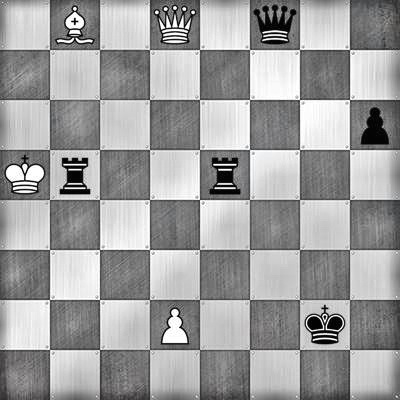black-king: (300, 300, 350, 350)
black-pawn: (350, 100, 400, 150)
black-queen: (250, 0, 300, 50)
black-rook: (50, 150, 100, 200), (200, 150, 250, 200)
white-bishop: (50, 0, 100, 50)
white-king: (0, 150, 50, 200)
white-pawn: (150, 300, 200, 350)
white-queen: (150, 0, 200, 50)
